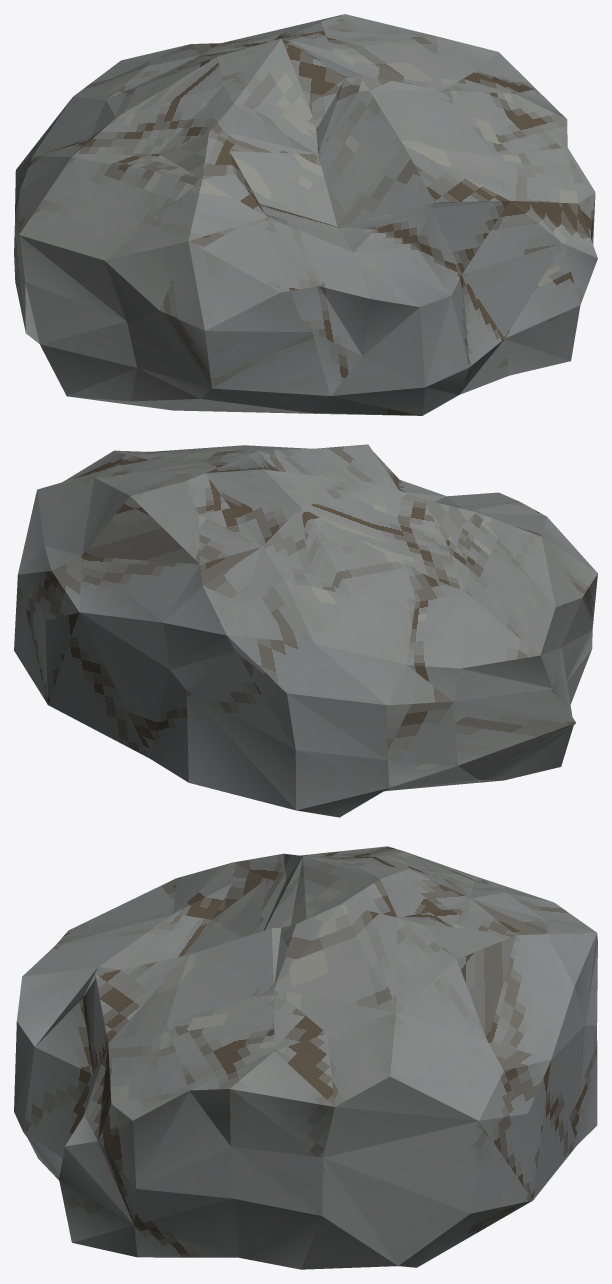
File: rock.glb
3 renders of one model, top to bottom at view 1: azimuth 30°, elevation 25°; view 2: azimuth 150°, elevation 25°; view 3: azimuth 270°, elevation 25°, orthographic. The views are drawn at different scales.
Visible parts, largest first — view 1: rock; view 2: rock; view 3: rock.
Boxes of the visible parts, bbox=[...] form: rock: bbox=[14, 14, 597, 415]; rock: bbox=[14, 444, 597, 817]; rock: bbox=[14, 846, 597, 1269].
Size of the model in its own units: 0.14 by 0.0748 by 0.1239.
1 material, 1 textured.
